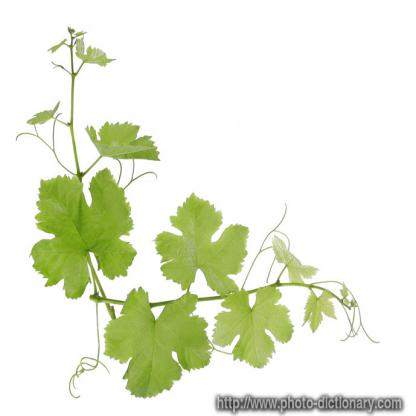grape leaf: (16, 167, 141, 308), (86, 291, 210, 406), (151, 196, 257, 297), (210, 277, 298, 377), (77, 116, 170, 177), (301, 290, 341, 343)
